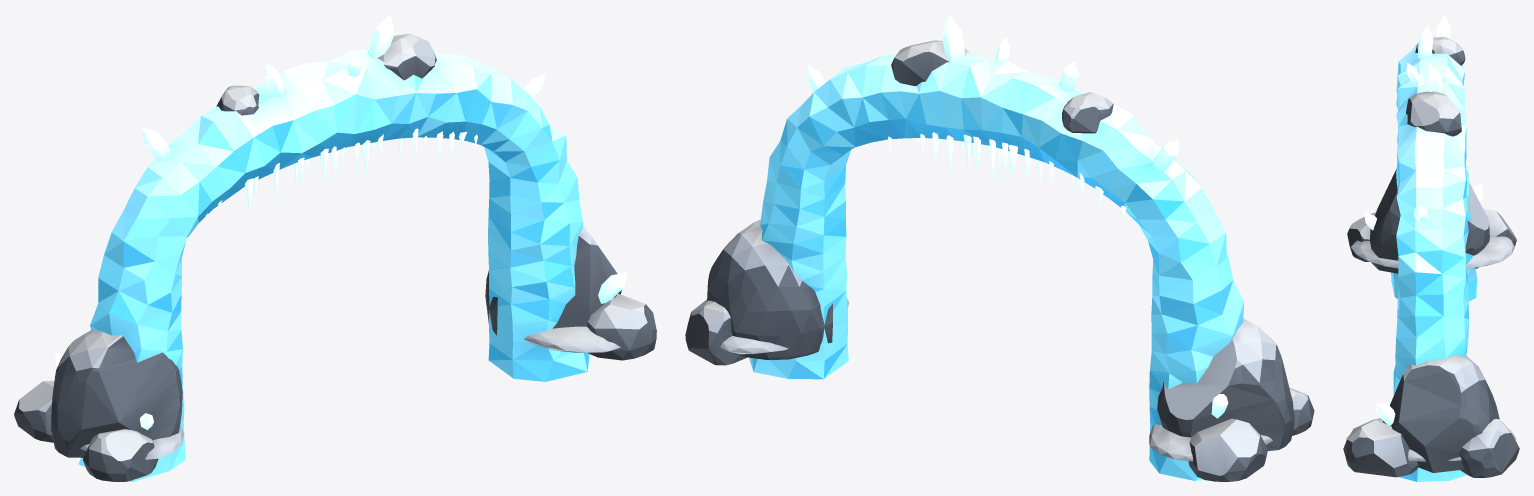
File: ice_arch.glb
The picture shows the model from 3 angles, left to right: view 1: azimuth 30°, elevation 25°; view 2: azimuth 150°, elevation 25°; view 3: azimuth 270°, elevation 25°; orthographic projection. The views are drawn at different scales.
Visible parts, largest first — view 1: ice_arch; view 2: ice_arch; view 3: ice_arch.
Part boxes in pixels (x1,y1,x2,y2): ice_arch: (14, 14, 656, 481); ice_arch: (685, 14, 1314, 481); ice_arch: (1343, 14, 1519, 481).
Size of the model in its own units: 22.84 by 14.62 by 6.94.
